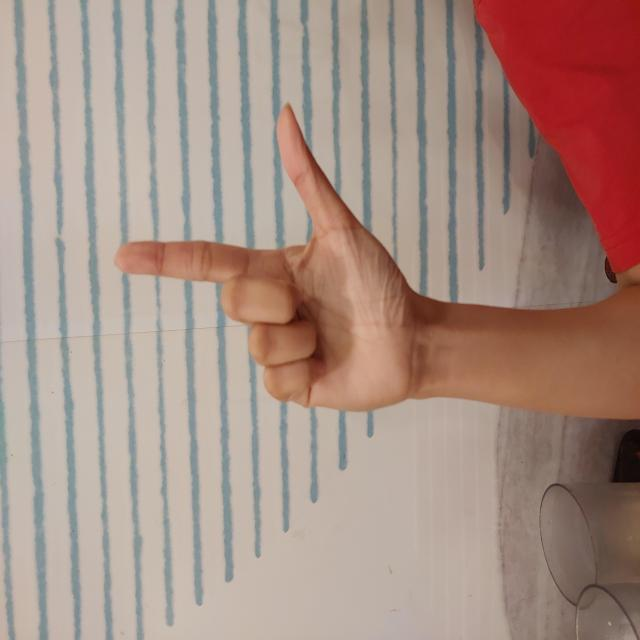L: (227, 112, 540, 420)
